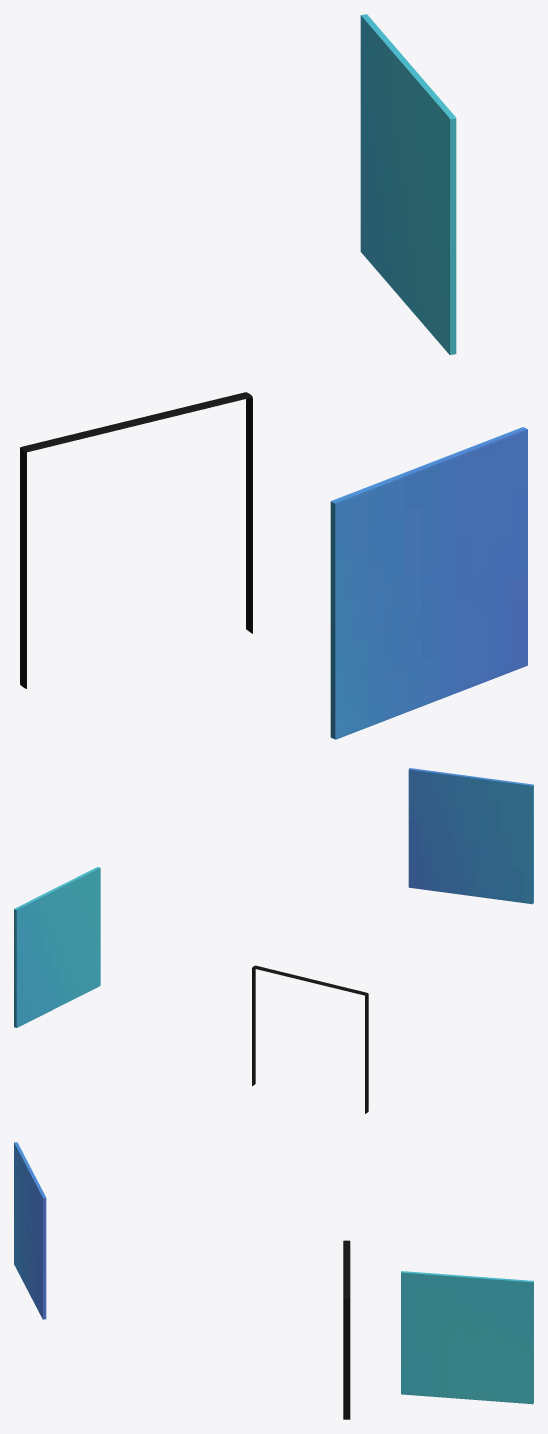
The model's file is Prova export 5.glb.
The picture shows the model from 3 angles, top to bottom: view 1: azimuth 30°, elevation 25°; view 2: azimuth 150°, elevation 25°; view 3: azimuth 270°, elevation 25°; orthographic projection. The views are drawn at different scales.
Parts seen in each view (by area): view 1: VetroDX, VetroSX, Siliconata; view 2: VetroDX, VetroSX, Siliconata; view 3: VetroSX, VetroDX, Siliconata.
Part boxes in pixels (x1,y1,x2,y2): VetroDX: (330,427,527,739); VetroSX: (360,14,456,354); Siliconata: (20,392,252,688); VetroDX: (408,768,533,904); VetroSX: (14,867,100,1027); Siliconata: (252,965,368,1113); VetroSX: (401,1271,533,1404); VetroDX: (14,1142,46,1319); Siliconata: (343,1240,350,1419).
Bounding box in the file's own units: 7.12 × 5.36 × 11.6.
Materials: 2 (1 with a texture image).
